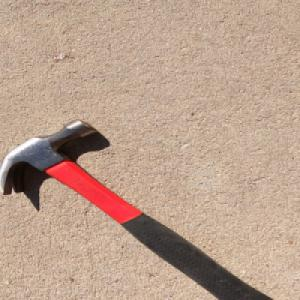Hammer: (0, 117, 278, 300)
